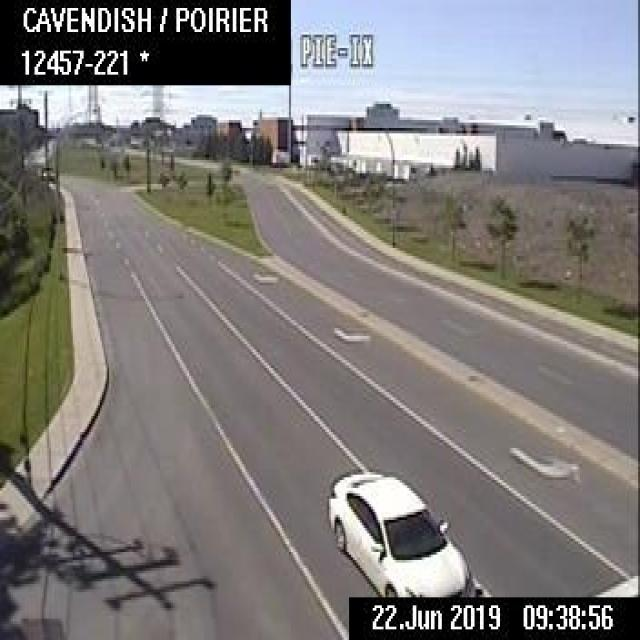vehicle: (326, 468, 473, 594)
